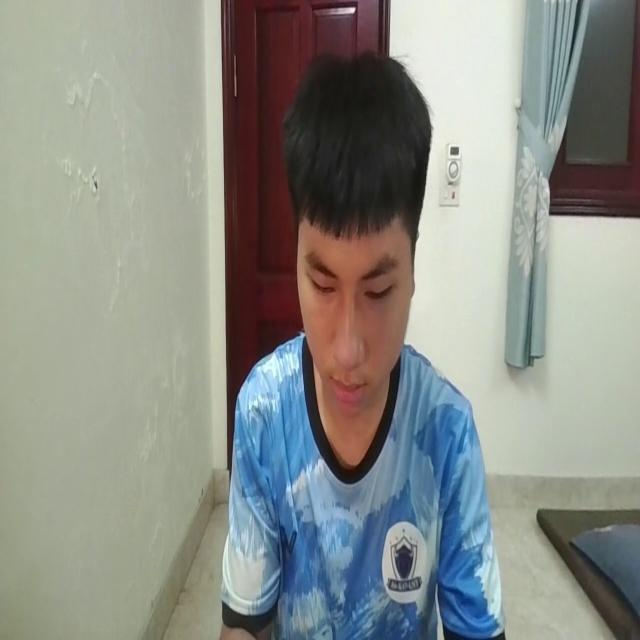student: (226, 46, 500, 640)
